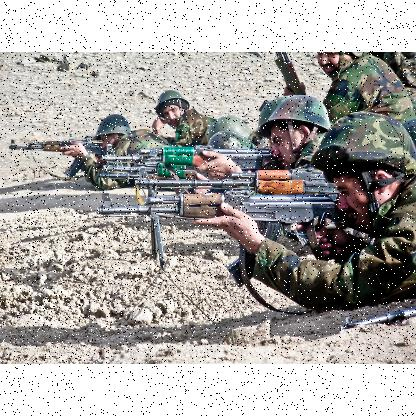gun: (96, 167, 338, 285), (99, 140, 277, 174), (5, 130, 106, 180)
